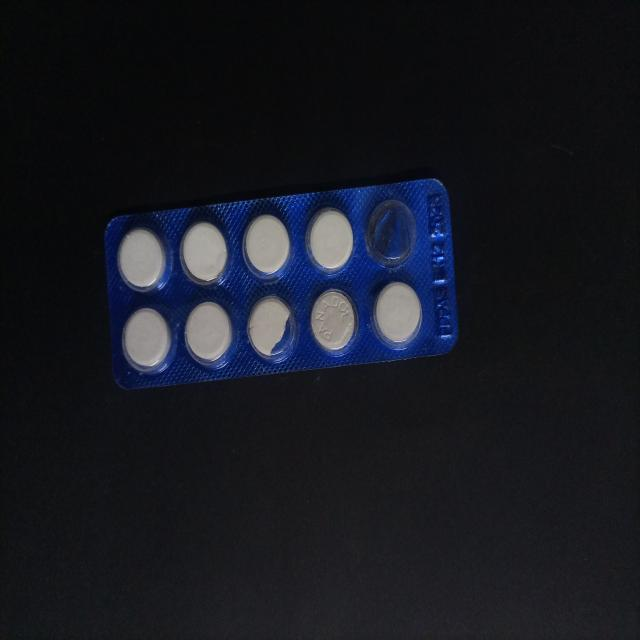defect: (363, 196, 420, 272), (245, 292, 298, 367)
